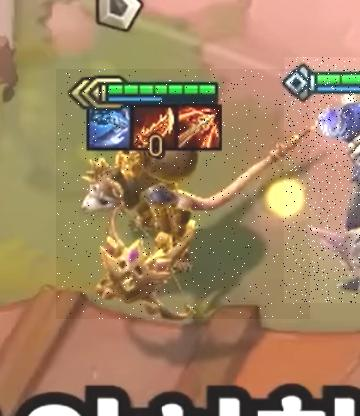2_varus: (284, 57, 360, 303)
3_twitch: (56, 69, 310, 319)
